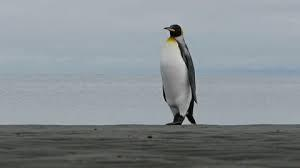king: (147, 19, 206, 136)
